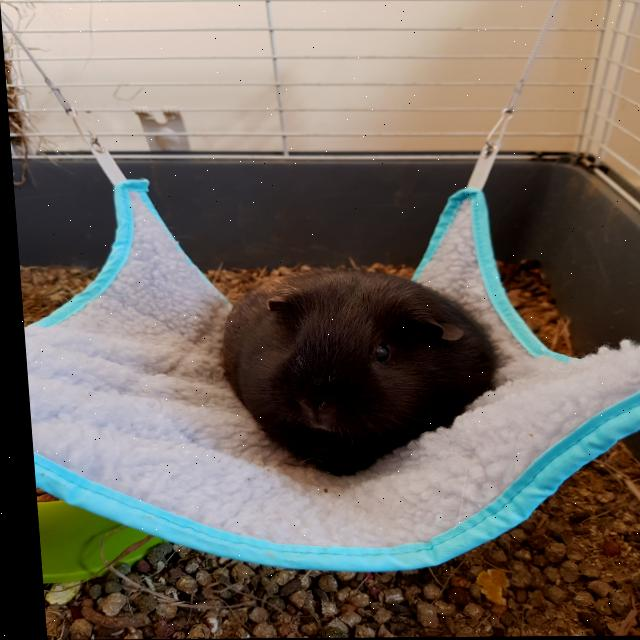guinea pig: (207, 265, 510, 479)
